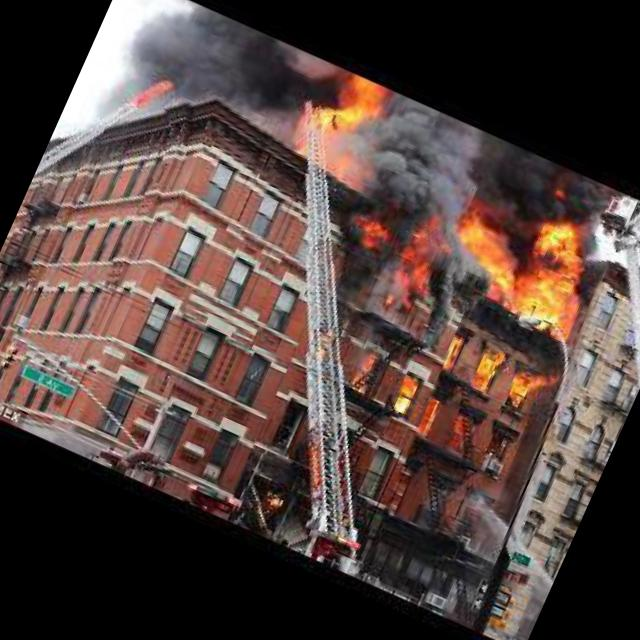fire: (410, 224, 600, 466), (338, 214, 448, 310), (296, 62, 382, 166), (384, 368, 426, 421)
smoke: (79, 0, 326, 194), (334, 88, 520, 272), (461, 133, 640, 272)
